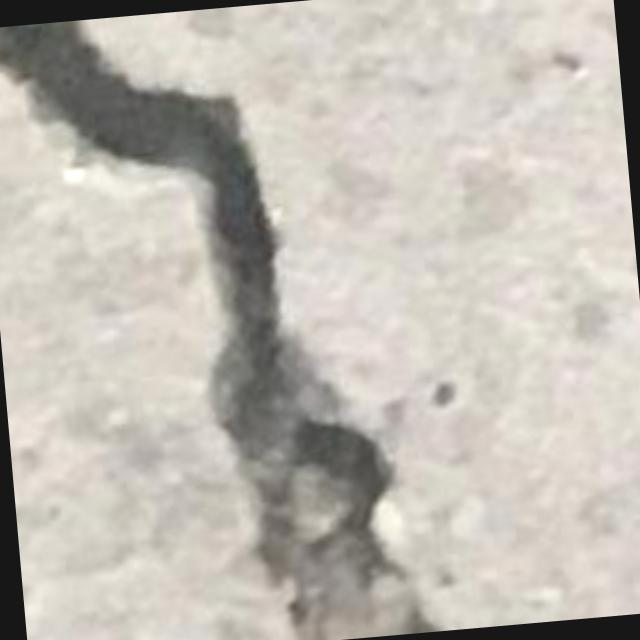crack: (0, 20, 439, 639)
